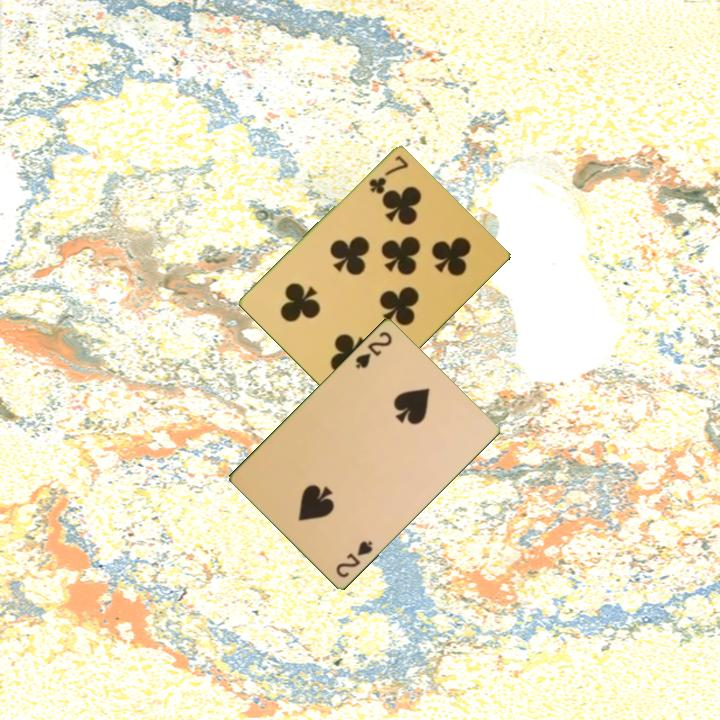2s: (332, 536, 376, 580), (352, 327, 395, 371)
7c: (365, 153, 411, 197)
